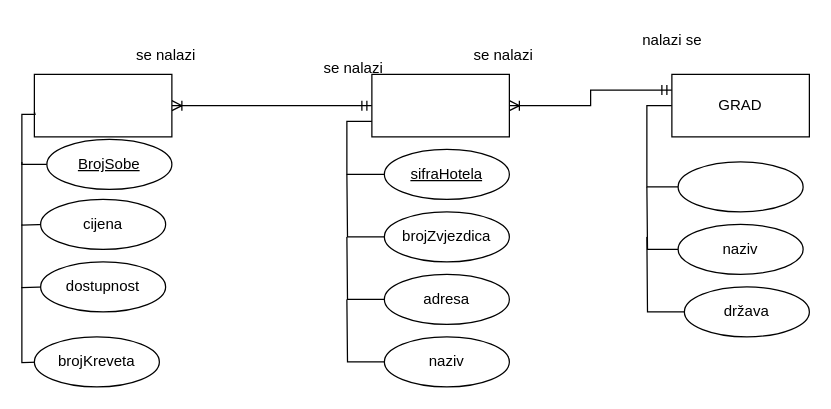
This 831x409 diagram has some shape labels left out. The box of each missing label's shape, as (x1, y1, x2, y2) in pixels:
HOTEL: (371, 73, 509, 137)
postBr: (677, 161, 803, 212)
SOBA: (33, 73, 172, 137)
